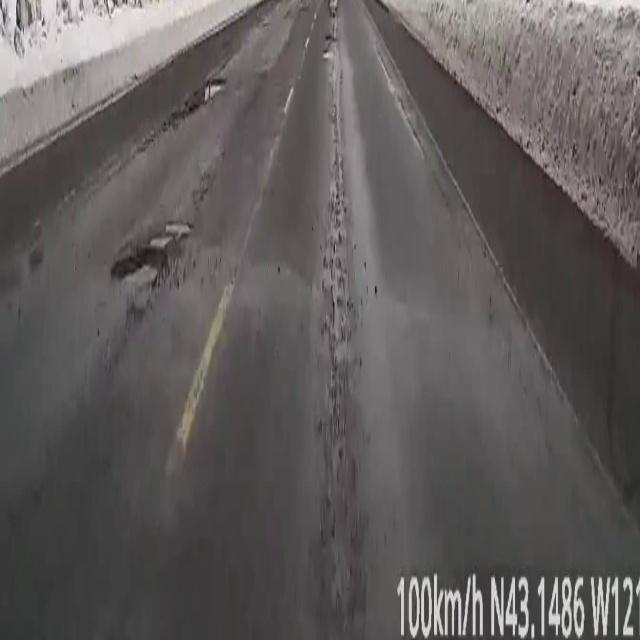pothole: (110, 216, 190, 307), (170, 72, 225, 120), (324, 0, 339, 61)
